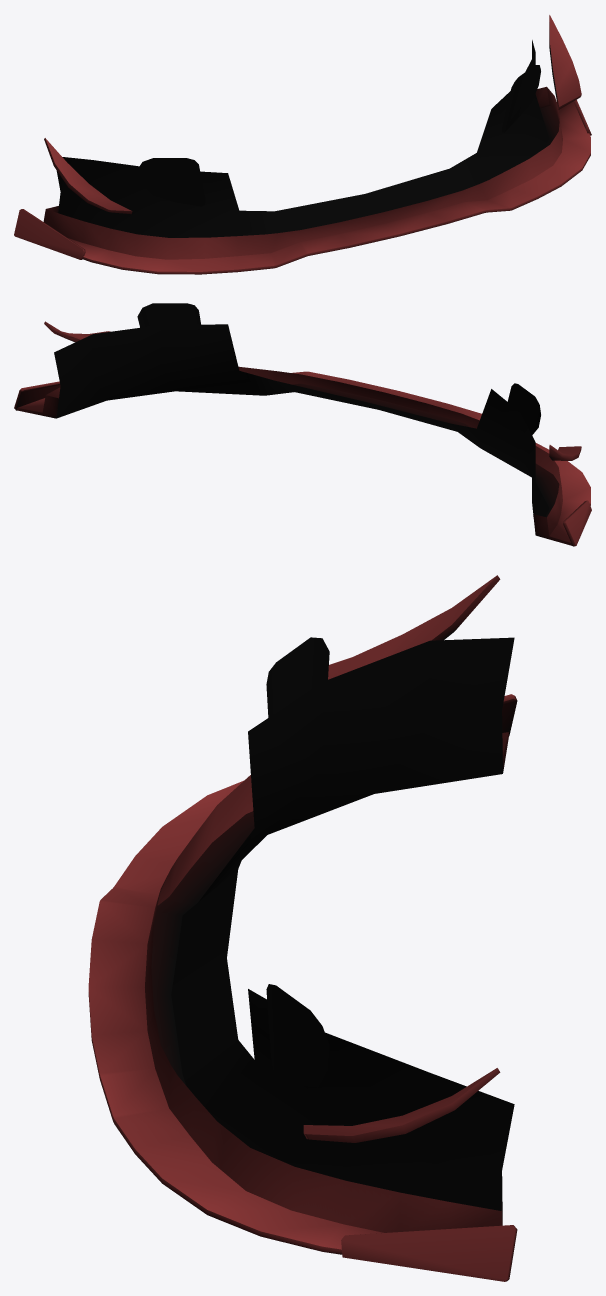
File: Supra_FrontBar_04_Trim.fbx
3 renders of one model, top to bottom at view 1: azimuth 30°, elevation 25°; view 2: azimuth 150°, elevation 25°; view 3: azimuth 270°, elevation 25°, orthographic. The views are drawn at different scales.
Visible parts, largest first — view 1: Supra_FrontBar_04_Trim; view 2: Supra_FrontBar_04_Trim; view 3: Supra_FrontBar_04_Trim.
Boxes of the visible parts, x1,y1,x2,y2 form: Supra_FrontBar_04_Trim: (14,15,591,274); Supra_FrontBar_04_Trim: (14,303,591,546); Supra_FrontBar_04_Trim: (88,575,517,1281).
Size of the model in its own units: 191 by 30.6 by 63.07.
